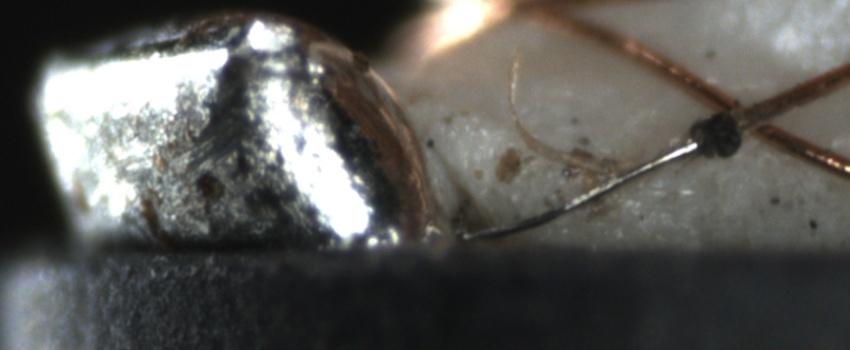CL: (700, 80, 794, 149)
TS: (464, 142, 700, 240)
TTCW: (461, 91, 797, 237)
